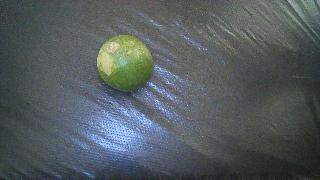DESECHO: (97, 35, 154, 91)
